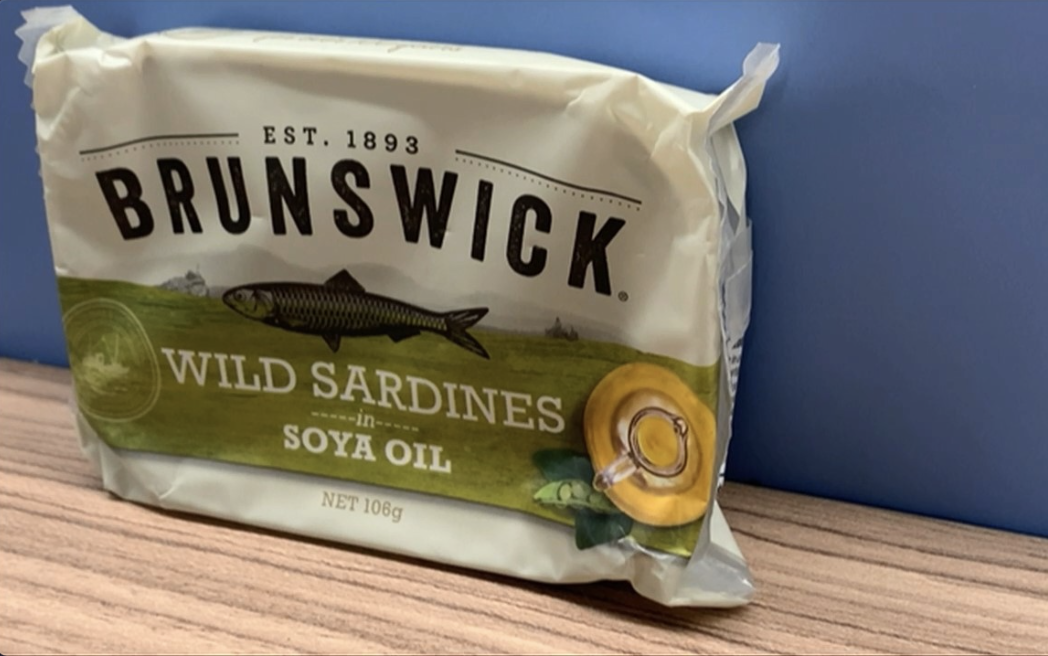sardines_150g: (75, 101, 721, 540)
